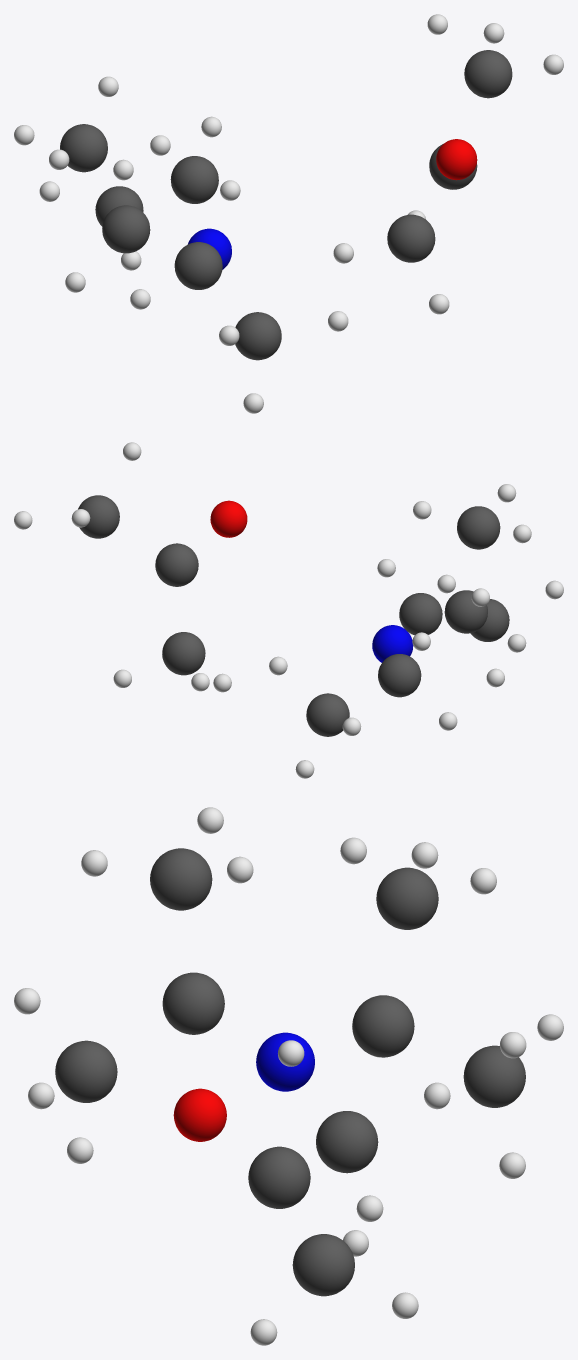
File: Acid-Base_Acetone_LDA.fbx
The picture shows the model from 3 angles, top to bottom: view 1: azimuth 30°, elevation 25°; view 2: azimuth 150°, elevation 25°; view 3: azimuth 270°, elevation 25°; orthographic projection. The views are drawn at different scales.
Parts seen in each view (by area): view 1: C05, C03, C24, C22, C09, C28, C17, O02, C13, N21, C01; view 2: C01, C05, C24, C03, C17, C13, C22, C09, N21, O02, C28; view 3: C03, C05, C22, C09, C28, C01, C17, C24, C13, O02, N21.
Part boxes in pixels (x1,y1,x2,y2): C05: (387, 214, 435, 262); C03: (102, 205, 150, 253); C24: (170, 156, 218, 203); C22: (174, 242, 222, 289); C09: (464, 50, 512, 98); C28: (235, 312, 281, 360); C17: (60, 124, 107, 172); O02: (436, 139, 477, 180); C13: (95, 186, 143, 226); N21: (188, 228, 231, 269); C01: (429, 144, 477, 189); C01: (155, 543, 198, 586); C05: (162, 632, 205, 675); C24: (457, 506, 500, 549); C03: (378, 654, 421, 697); C17: (399, 593, 442, 635); C13: (306, 693, 349, 736); C22: (444, 590, 487, 633); C09: (78, 495, 119, 538); N21: (372, 625, 413, 662); O02: (210, 500, 247, 537); C28: (470, 599, 509, 641); C03: (352, 995, 414, 1057); C05: (292, 1234, 354, 1296); C22: (162, 972, 224, 1034); C09: (316, 1111, 378, 1173); C28: (55, 1040, 117, 1102); C01: (248, 1146, 310, 1208); C17: (376, 867, 438, 929); C24: (150, 848, 212, 910); C13: (463, 1045, 525, 1107); O02: (173, 1088, 226, 1141); N21: (256, 1032, 314, 1091).
Bounding box in the file's own units: 932 × 456 × 661.
